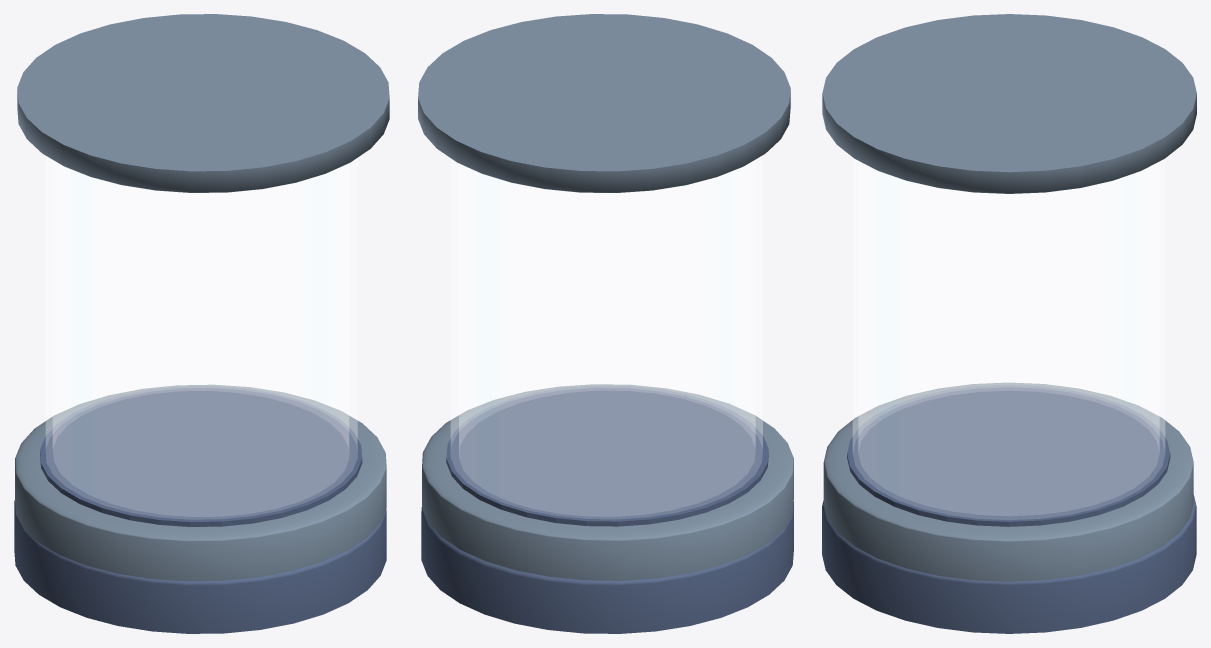
The model's file is LabTank.fbx.
The picture shows the model from 3 angles, left to right: view 1: azimuth 30°, elevation 25°; view 2: azimuth 150°, elevation 25°; view 3: azimuth 270°, elevation 25°; orthographic projection.
Visible parts, largest first — view 1: Cylinder.003, Cylinder.004, Cylinder.002, Cylinder.001, Cylinder; view 2: Cylinder.003, Cylinder.004, Cylinder.002, Cylinder.001, Cylinder; view 3: Cylinder.003, Cylinder.004, Cylinder.002, Cylinder.001, Cylinder.
Boxes of the visible parts, box(x1,y1,x2,y2) form: Cylinder.003: box(46, 156, 357, 518); Cylinder.004: box(17, 14, 389, 192); Cylinder.002: box(40, 386, 362, 526); Cylinder.001: box(15, 384, 386, 581); Cylinder: box(14, 500, 386, 633); Cylinder.003: box(451, 155, 762, 518); Cylinder.004: box(418, 14, 790, 192); Cylinder.002: box(446, 385, 768, 526); Cylinder.001: box(422, 384, 793, 580); Cylinder: box(421, 501, 793, 633); Cylinder.003: box(853, 158, 1164, 519); Cylinder.004: box(822, 14, 1196, 193); Cylinder.002: box(847, 385, 1170, 526); Cylinder.001: box(823, 382, 1193, 581); Cylinder: box(822, 495, 1196, 633).
Size of the model in its own units: 202 by 273 by 200.
